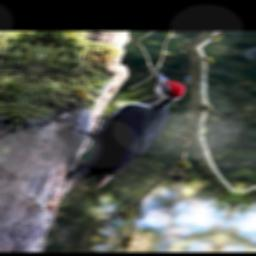Woodpecker: (34, 63, 193, 204)
